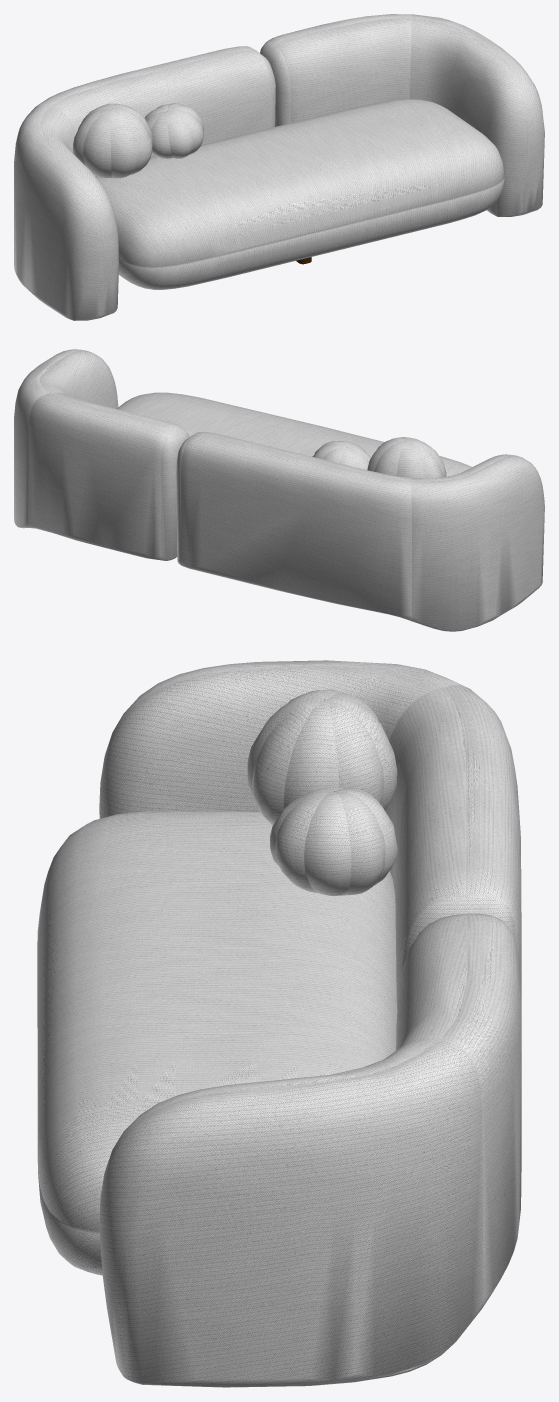
The model's file is sofa_compresed.glb.
3 views of the same model, one above another, from view 1: azimuth 30°, elevation 25°; view 2: azimuth 150°, elevation 25°; view 3: azimuth 270°, elevation 25° (orthographic). The views are drawn at different scales.
Parts seen in each view (by area): view 1: The Sofa Polly; view 2: The Sofa Polly; view 3: The Sofa Polly.
Boxes of the visible parts, left/top/right/bottom form: The Sofa Polly: left=14, top=14, right=544, bottom=320; The Sofa Polly: left=14, top=349, right=544, bottom=631; The Sofa Polly: left=37, top=660, right=521, bottom=1387.
Size of the model in its own units: 2.31 by 0.7212 by 1.01.
Materials: 2 (2 with a texture image).
